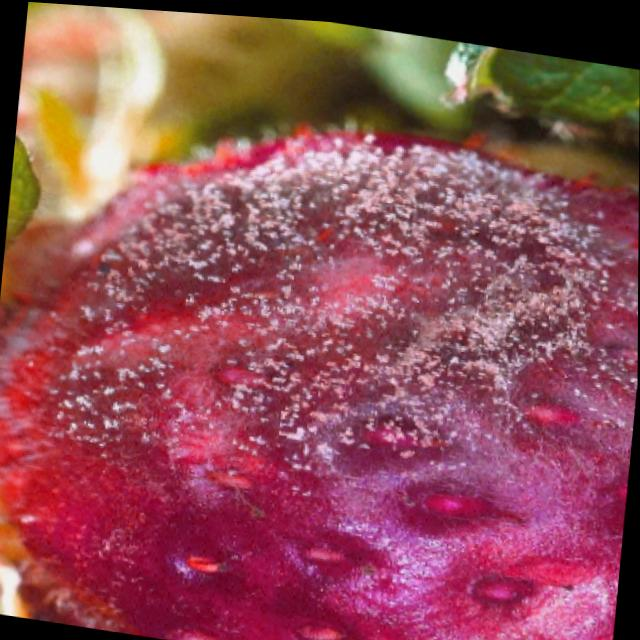Gray Mold: (0, 123, 639, 640)
